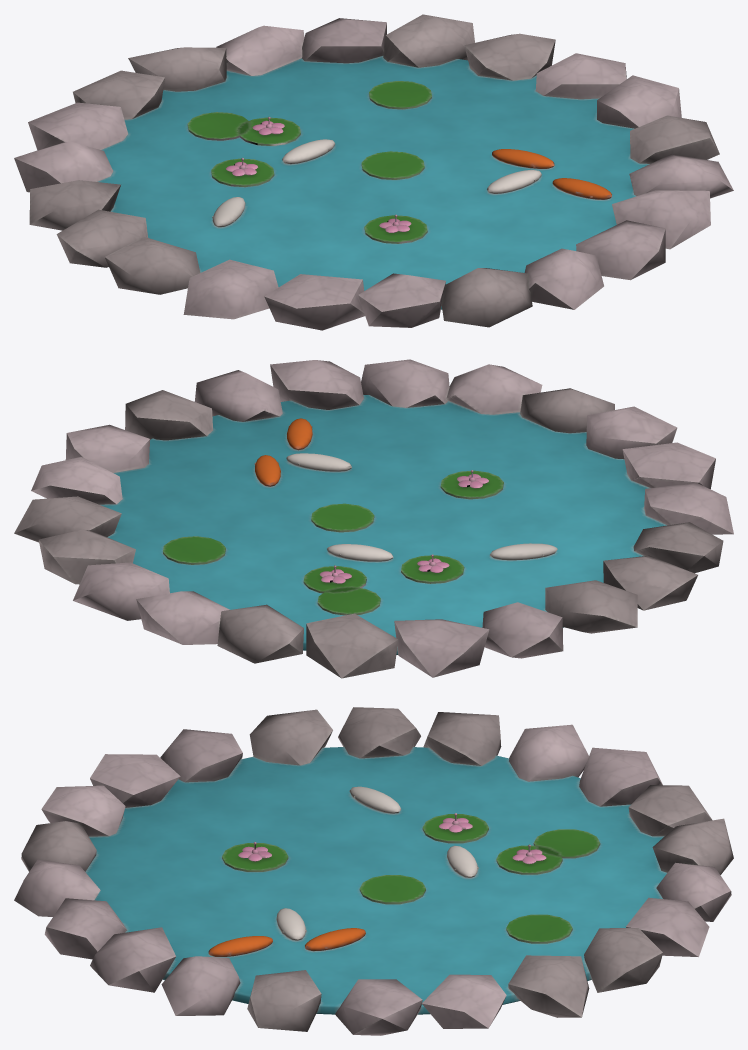
File: cb_koi_pond.glb
3 views of the same model, one above another, from view 1: azimuth 30°, elevation 25°; view 2: azimuth 150°, elevation 25°; view 3: azimuth 270°, elevation 25° (orthographic). The views are drawn at different scales.
Parts seen in each view (by area): view 1: cb_koi_pond; view 2: cb_koi_pond; view 3: cb_koi_pond.
Boxes of the visible parts, x1,y1,x2,y2 form: cb_koi_pond: (14, 14, 733, 330); cb_koi_pond: (14, 359, 733, 678); cb_koi_pond: (14, 707, 733, 1035).
Bounding box in the file's own units: 7.15 × 0.612 × 6.94.
7 materials, 7 textured.
